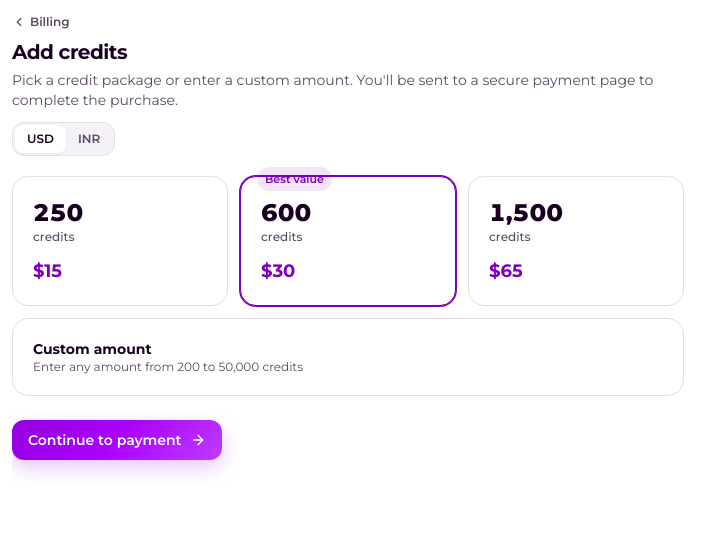
Test: AddCredits › rejects a custom amount outside the allowed range
The image size is (703, 540).
Expected: the text "$15" is shown, [33,260,62,282]
Click the text "Custom amount".
click(92, 349)  # box [33,340,152,358]
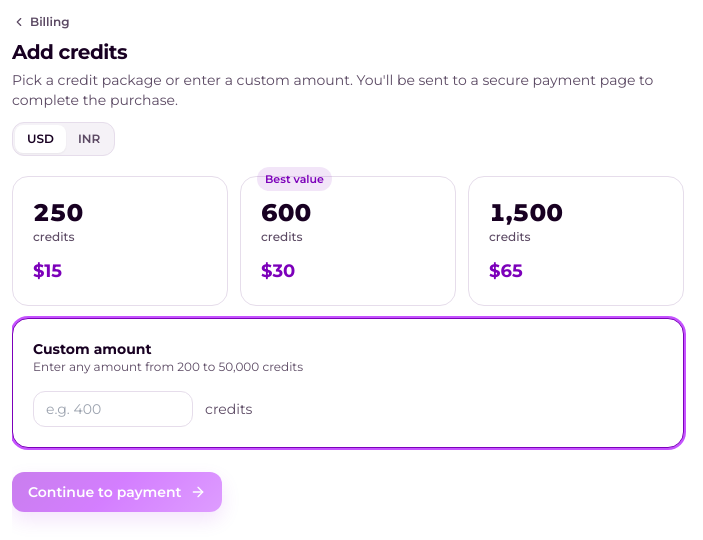
Type "100" into the number field with placeholder "e.g. 400".
click(113, 409); type("100")  # box [33,391,193,427]
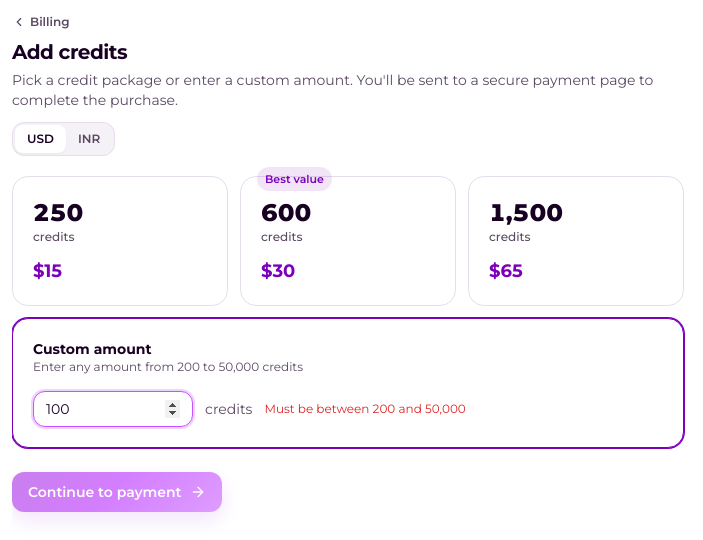
Expected: the button "Continue to payment" is disabled, [12,472,222,512]
Expected: the text "Must be between 200 and 50,000" is shown, [264,401,466,417]
